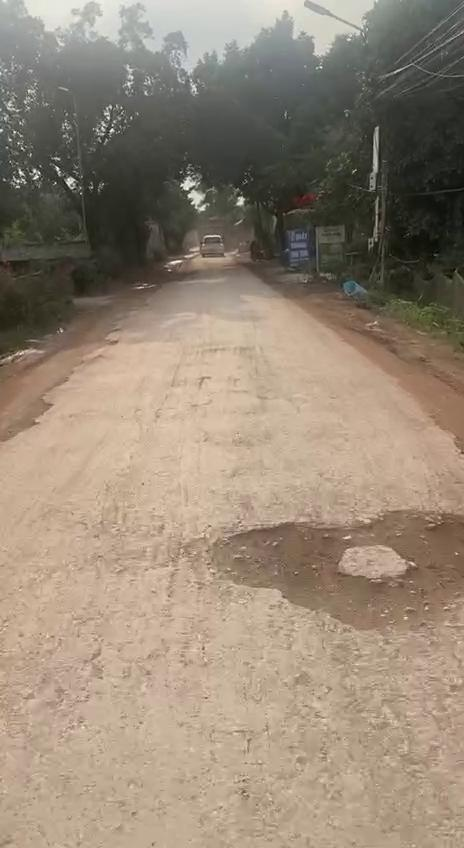pothole: (217, 502, 464, 640)
